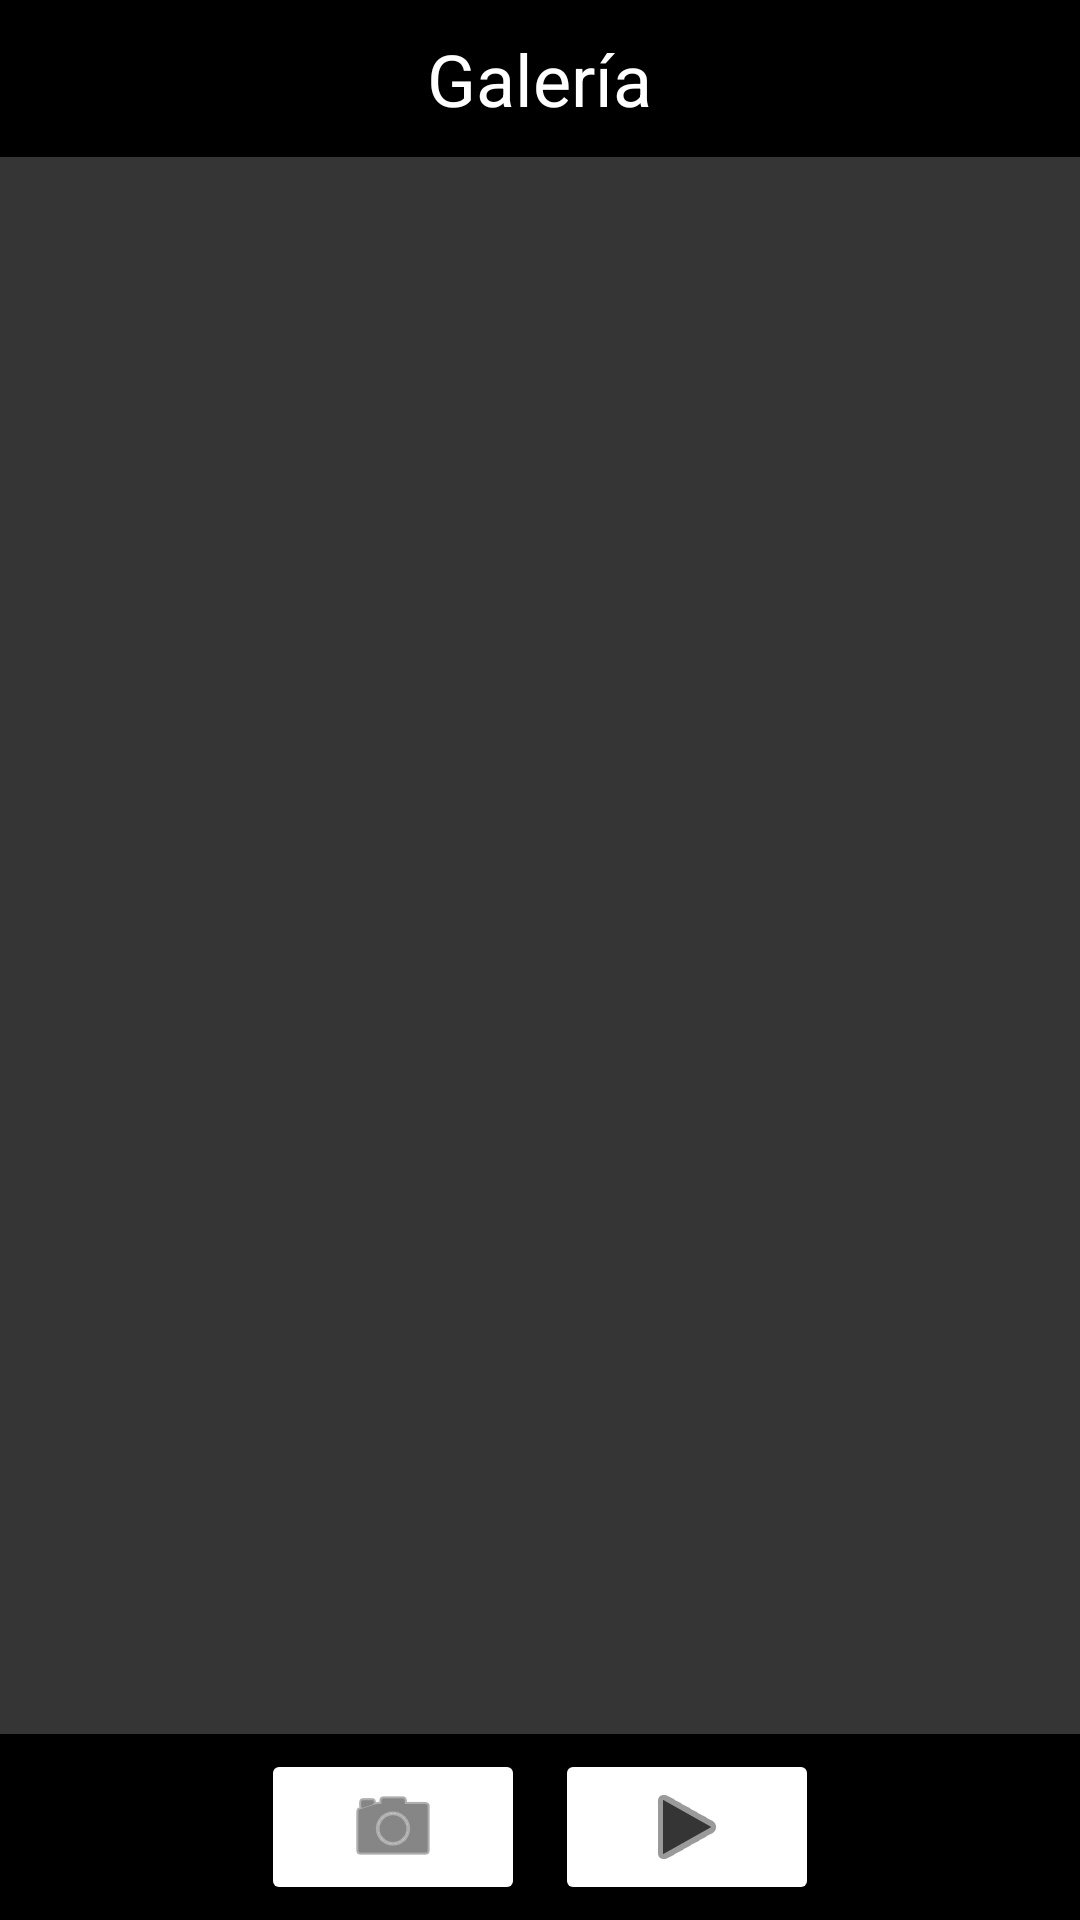

Point at icon controls on the screen. Image size 1080w x 1920h, points as [x,y].
camera: [393,1827]
play: [687,1827]
